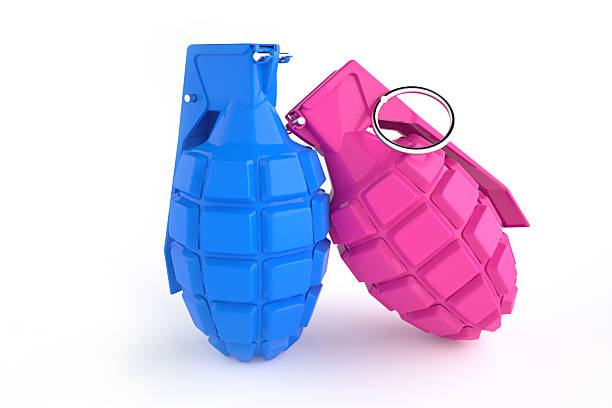e1: (298, 58, 530, 347), (166, 37, 332, 358)
